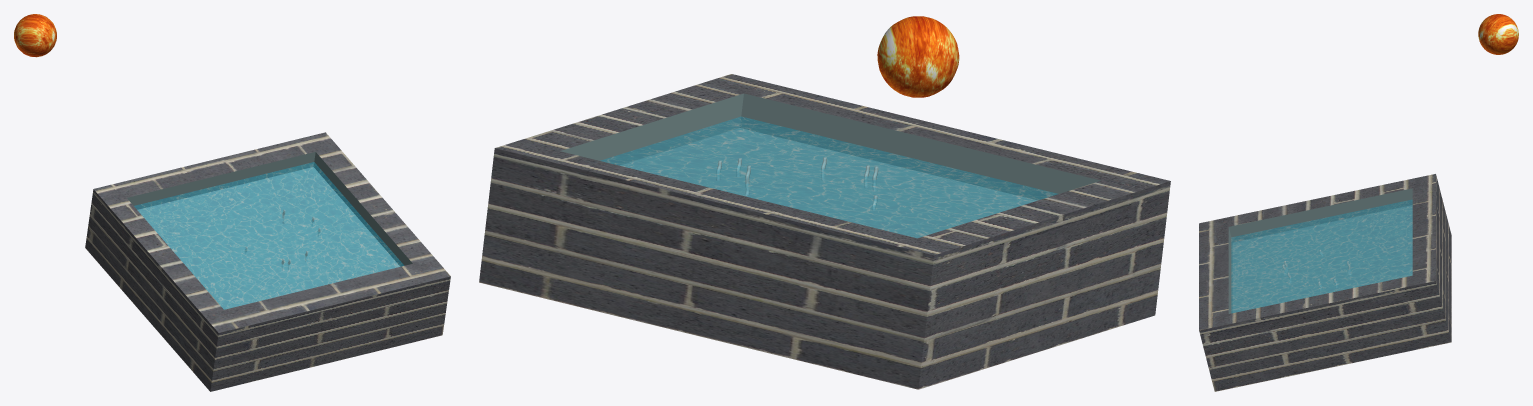
3 views of the same model, side by side, from view 1: azimuth 30°, elevation 25°; view 2: azimuth 150°, elevation 25°; view 3: azimuth 270°, elevation 25° (orthographic). The views are drawn at different scales.
Visible parts, largest first — view 1: pCube1, pCube1.001, water, pSphere1; view 2: pCube1, pCube1.001, water, pSphere1; view 3: pCube1, pCube1.001, water, pSphere1.
Boxes of the visible parts, x1,y1,x2,y2 form: pCube1: (85,132,450,391); pCube1.001: (127,152,412,309); water: (134,162,403,309); pSphere1: (14,14,56,57); pCube1: (479,74,1170,389); pCube1.001: (560,93,1100,238); water: (601,117,1056,237); pSphere1: (877,16,959,97); pCube1: (1199,174,1451,391); pCube1.001: (1228,188,1412,313); water: (1231,200,1412,312); pSphere1: (1478,14,1518,54).
Bounding box in the file's own units: 7.08 × 6.67 × 7.52.
5 materials, 4 textured.
